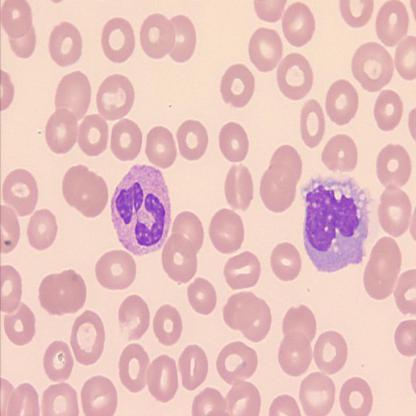Monocyte: (298, 172, 373, 274)
